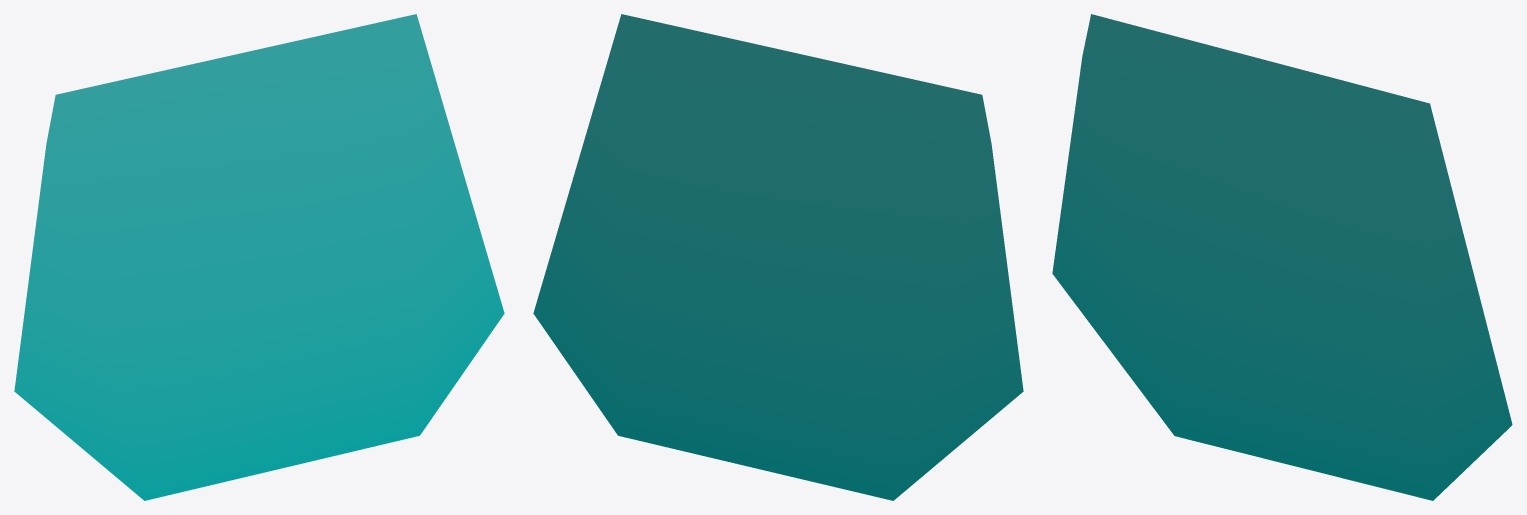
The model's file is uddmcgbia_VarH_LOD3.fbx.
3 views of the same model, side by side, from view 1: azimuth 30°, elevation 25°; view 2: azimuth 150°, elevation 25°; view 3: azimuth 330°, elevation 25° (orthographic). The views are drawn at different scales.
Visible parts, largest first — view 1: _762a_VarH_LOD4; view 2: _762a_VarH_LOD4; view 3: _762a_VarH_LOD4.
Part boxes in pixels (x1=…): _762a_VarH_LOD4: x1=14, y1=14, x2=504, y2=500; _762a_VarH_LOD4: x1=533, y1=14, x2=1023, y2=500; _762a_VarH_LOD4: x1=1052, y1=14, x2=1512, y2=500.
Size of the model in its own units: 41.54 by 34.8 by 0.
